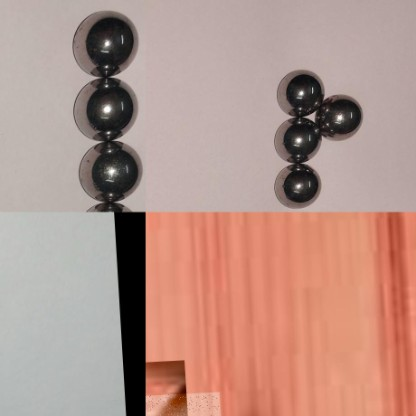ironball: (69, 6, 151, 77), (61, 79, 138, 142), (73, 137, 147, 198), (315, 88, 369, 143), (271, 157, 326, 211), (267, 113, 323, 161), (278, 68, 324, 116)
